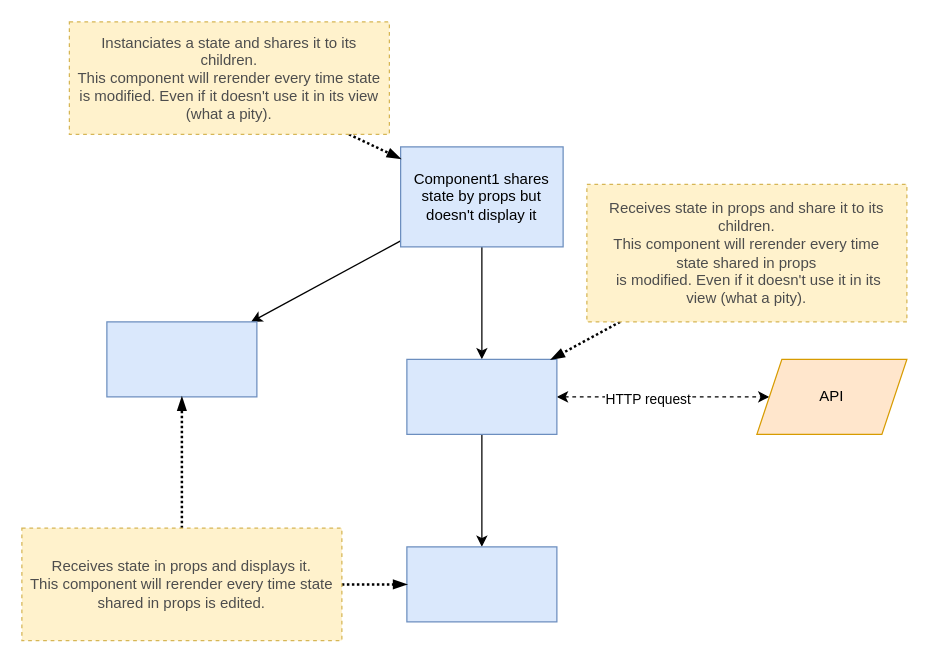
This 929x663 diagram has some shape labels left out. Here are the shapes that lost their labels. From the top down, the box of each, then its label:
(106, 321, 257, 397): Component2 displays state
(406, 358, 557, 434): Component3 doesn't display state
(406, 546, 557, 622): Component4 displays state
